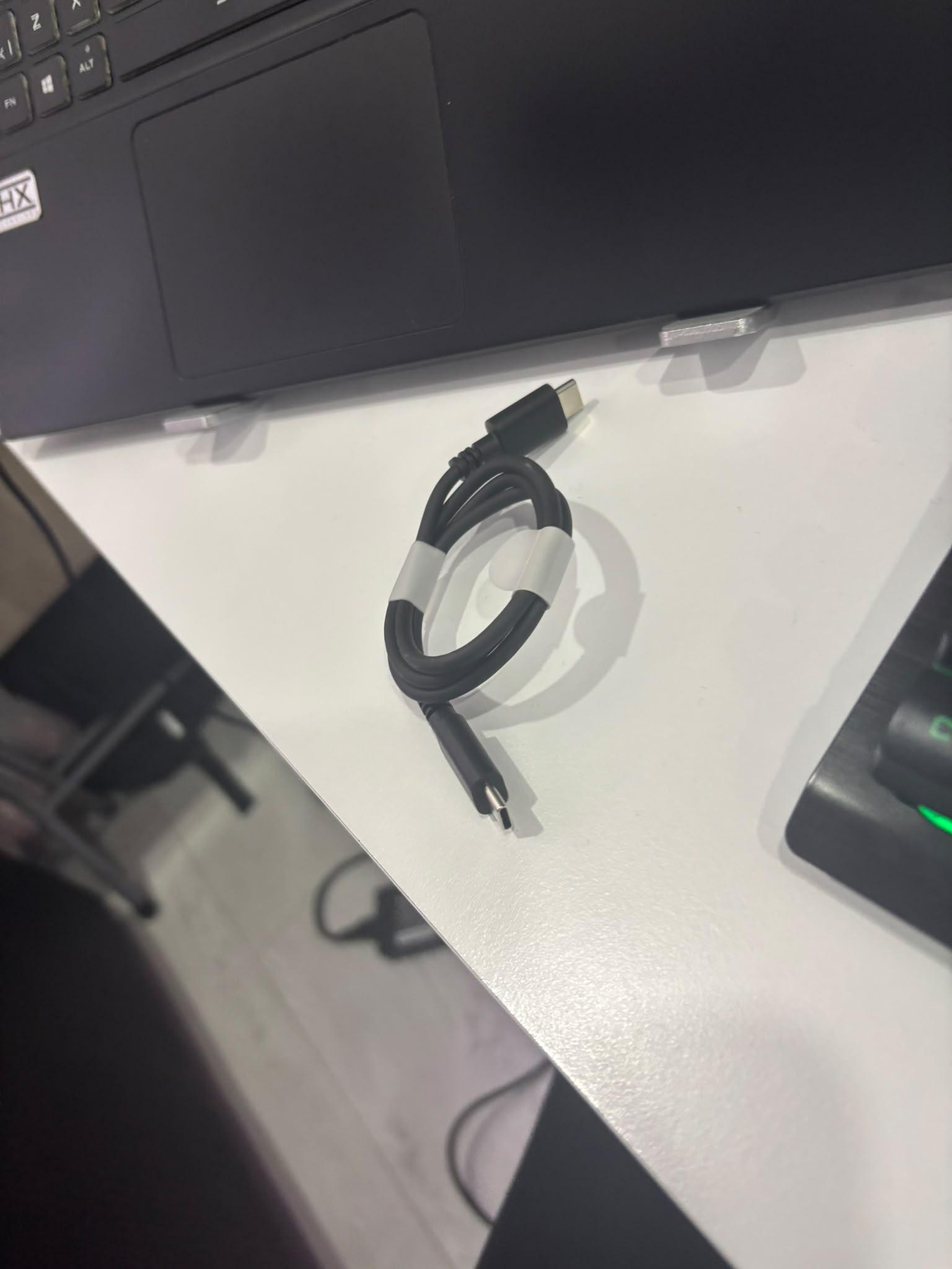cable: (384, 378, 585, 832)
keyboard: (0, 0, 288, 136)
mouse: (867, 605, 952, 843)
